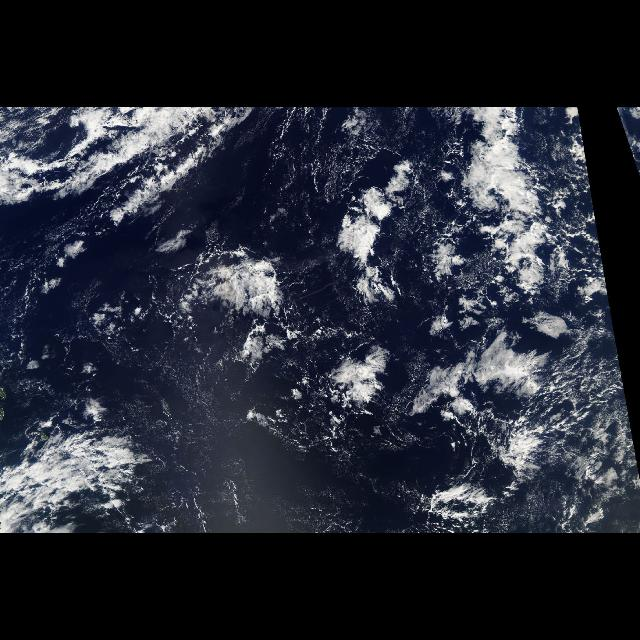Fish: (292, 310, 404, 468)
Gravel: (394, 176, 620, 370)
